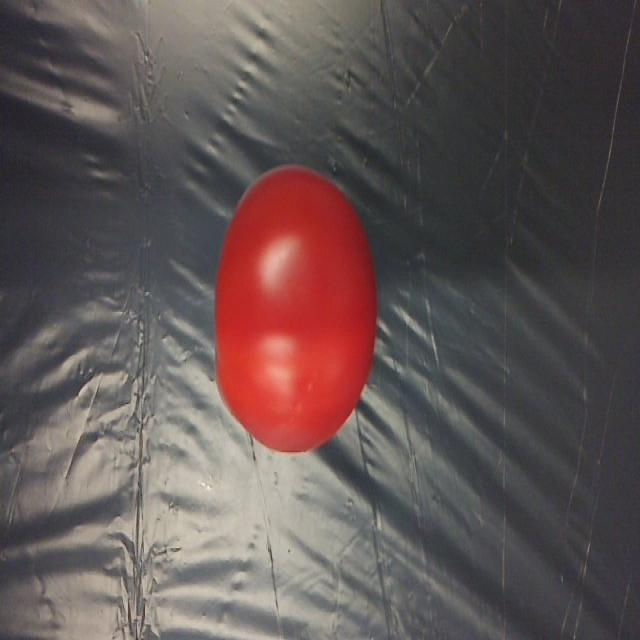kirmizi: (208, 160, 392, 461)
